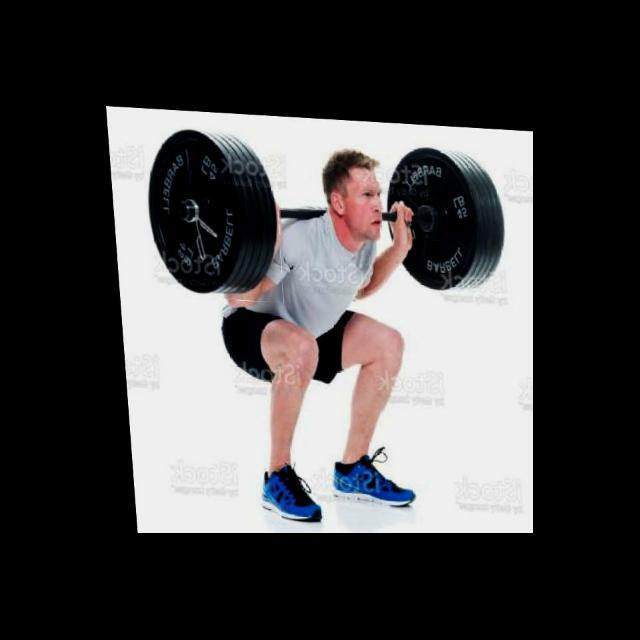barbell: (138, 120, 283, 301)
